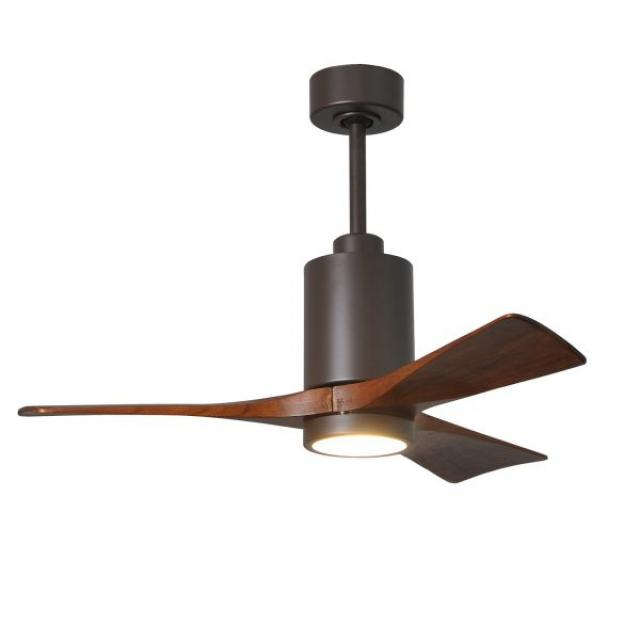fan: (17, 62, 587, 483)
